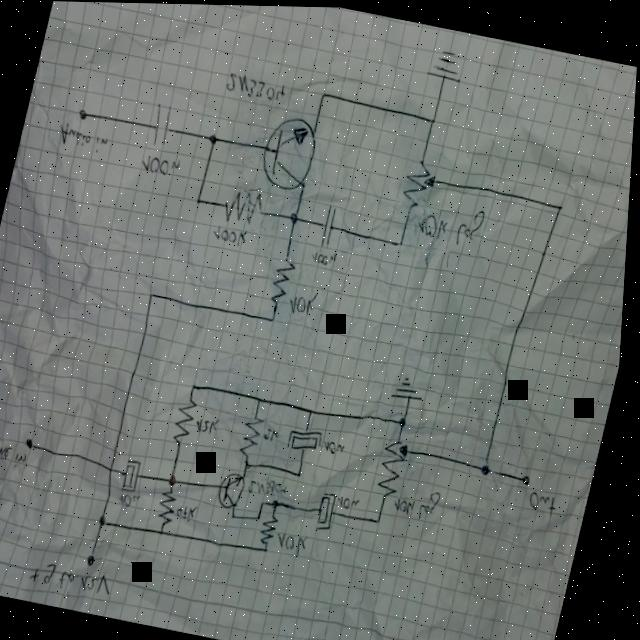capacitor: (286, 420, 328, 458), (146, 99, 178, 147), (316, 487, 343, 531), (318, 200, 342, 247), (123, 456, 147, 491)
crossover: (110, 461, 120, 474)
ground: (425, 43, 467, 82), (392, 370, 430, 402)
junction: (482, 458, 497, 475), (207, 129, 220, 145), (170, 473, 183, 487), (288, 209, 301, 223), (426, 111, 439, 125), (101, 511, 113, 526), (400, 413, 411, 426), (555, 199, 566, 211), (318, 86, 328, 99), (245, 457, 255, 470), (194, 193, 204, 204), (309, 404, 319, 415), (161, 525, 171, 536), (233, 508, 242, 520), (275, 496, 284, 507), (192, 380, 201, 391), (258, 392, 267, 403), (271, 312, 279, 323), (397, 237, 405, 247), (299, 467, 307, 477), (378, 515, 386, 524), (263, 496, 271, 505), (150, 289, 157, 298), (267, 543, 274, 552), (260, 511, 266, 520)
resistor: (396, 149, 443, 213), (376, 432, 416, 497), (221, 181, 268, 226), (268, 252, 298, 308), (172, 394, 202, 446), (240, 411, 270, 456), (159, 486, 185, 527), (262, 512, 283, 546)
terminal: (521, 469, 537, 484), (27, 434, 40, 451), (90, 552, 102, 566), (76, 107, 88, 120)
text: (413, 193, 490, 249), (29, 556, 121, 597), (221, 67, 289, 103), (53, 120, 114, 155), (395, 480, 447, 519), (138, 149, 185, 178), (249, 473, 294, 500), (276, 526, 315, 555), (0, 440, 33, 471), (211, 221, 251, 246), (288, 286, 321, 316), (530, 487, 562, 514), (120, 488, 147, 510), (196, 414, 224, 435), (310, 246, 339, 266), (178, 500, 203, 521), (323, 436, 351, 454), (341, 491, 366, 509), (265, 424, 284, 441)
transistor: (255, 112, 323, 193), (219, 468, 252, 511)
